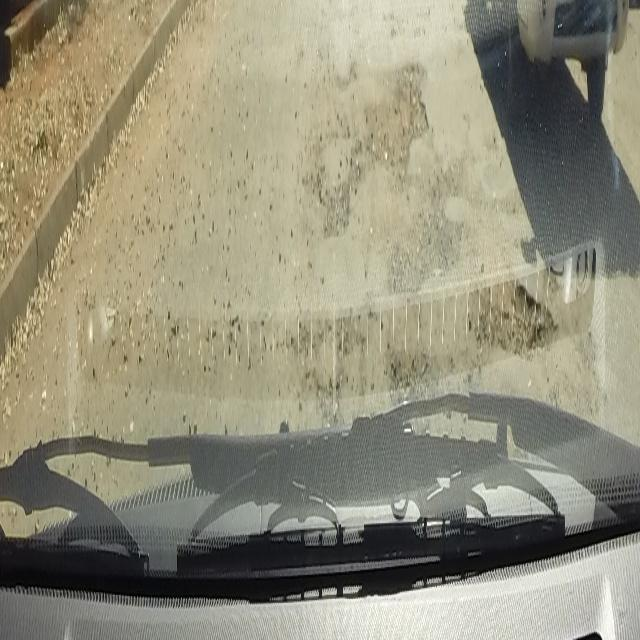pothole: (467, 274, 558, 350), (364, 88, 430, 176)
